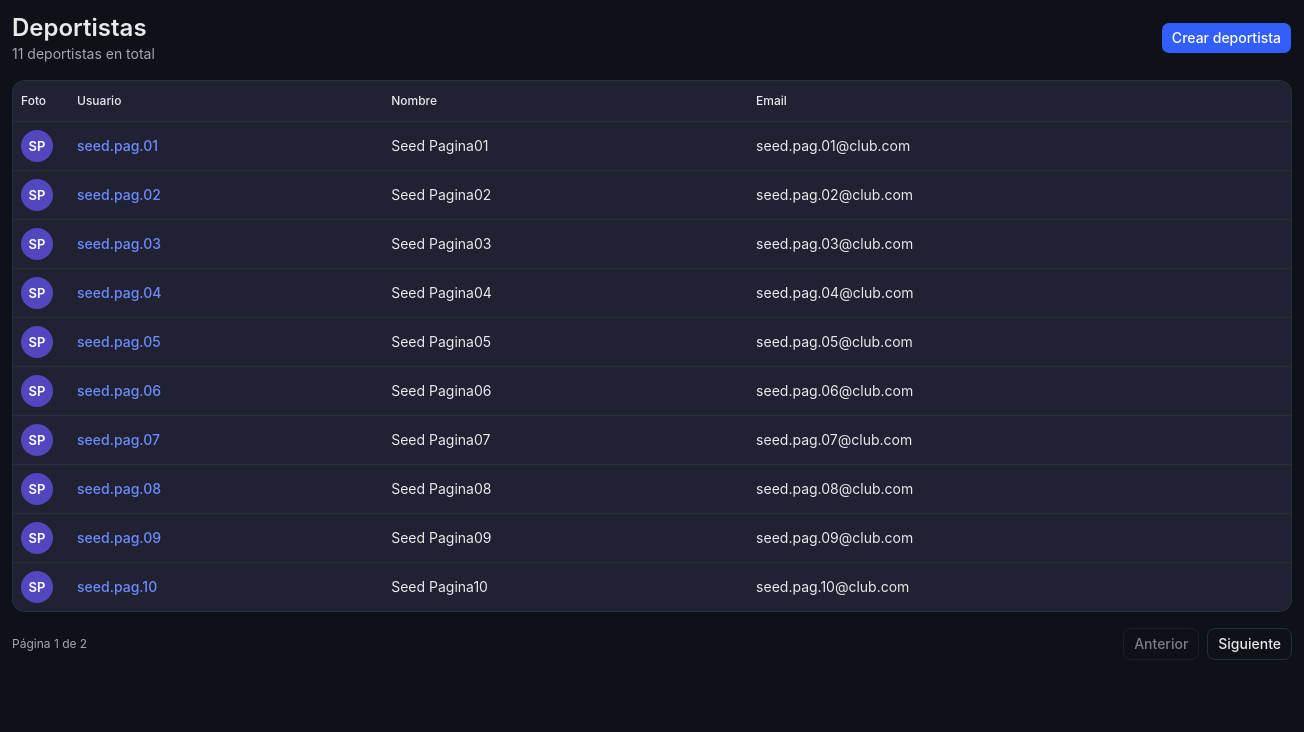
Test case: AthletesListPage › navegar de página: Siguiente pide page=1 al servidor y actualiza la tabla
Check: the text "Seed Pagina01" is shown, box x1=383 y1=121 x2=748 y2=170
Click the button with test id "athletes-pagination-next" at (1250, 644), box x1=1207 y1=628 x2=1292 y2=660
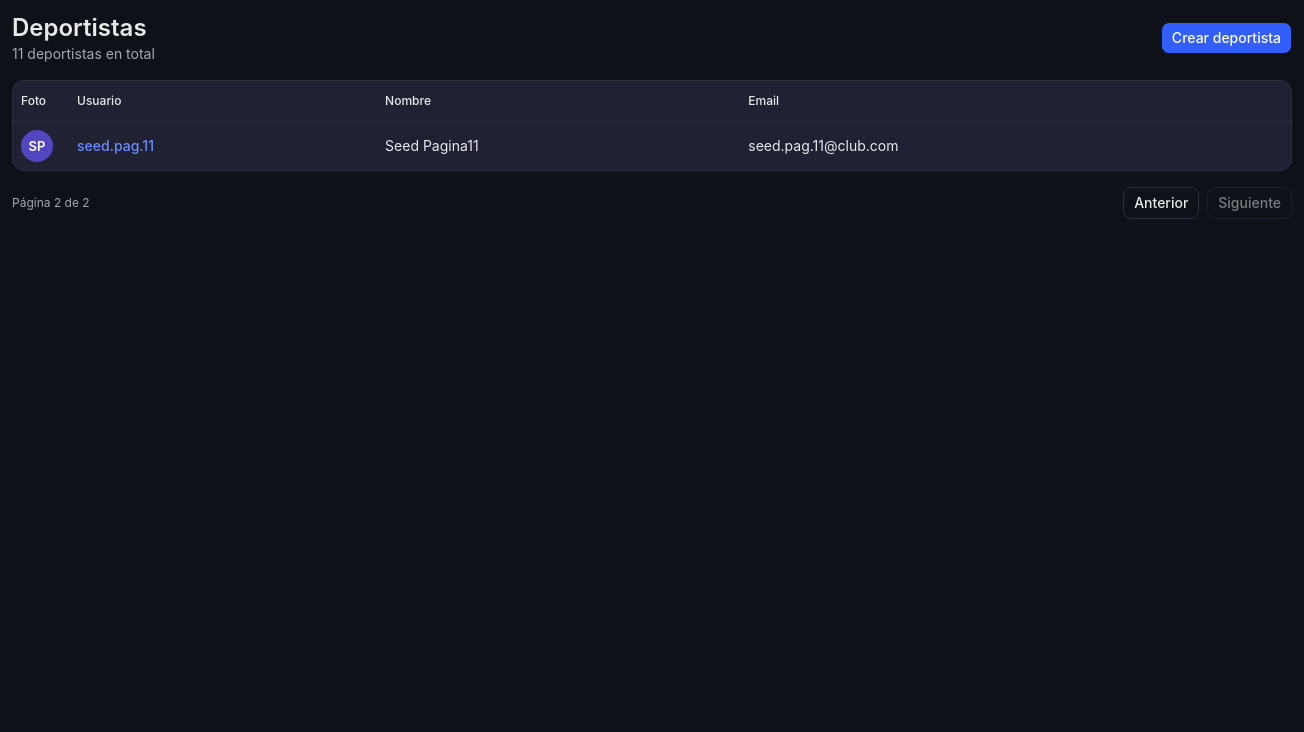
Check: the text "Seed Pagina11" is shown, box x1=377 y1=121 x2=740 y2=170
